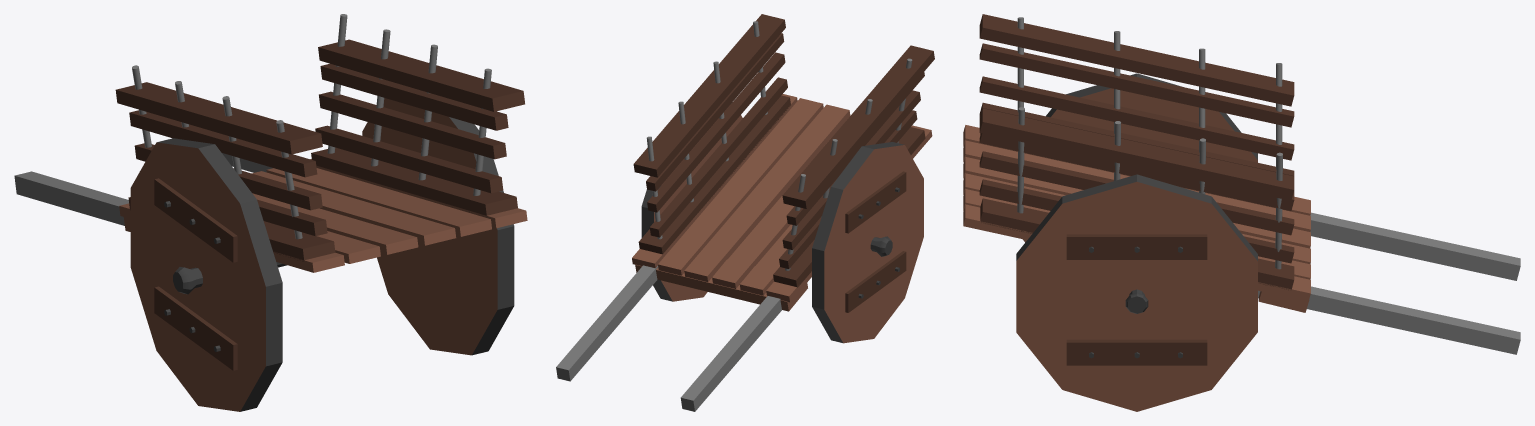
File: west_cart.fbx
3 views of the same model, side by side, from view 1: azimuth 30°, elevation 25°; view 2: azimuth 150°, elevation 25°; view 3: azimuth 270°, elevation 25° (orthographic). The views are drawn at different scales.
Visible parts, largest first — view 1: pCylinder24; view 2: pCylinder24; view 3: pCylinder24.
Boxes of the visible parts, box(x1,y1,x2,y2) form: pCylinder24: box(14, 14, 527, 411); pCylinder24: box(556, 14, 934, 411); pCylinder24: box(963, 14, 1520, 411).
Size of the model in its own units: 2.33 by 2.55 by 4.39.
